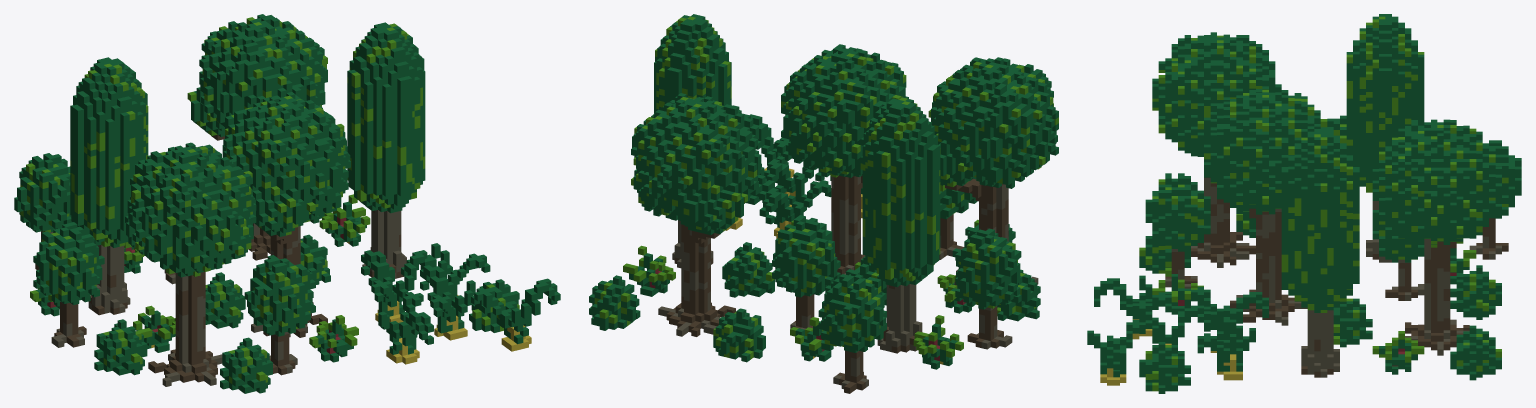
The model's file is trees_10_overtile.obj.
3 views of the same model, side by side, from view 1: azimuth 30°, elevation 25°; view 2: azimuth 150°, elevation 25°; view 3: azimuth 270°, elevation 25° (orthographic). The views are drawn at different scales.
Bounding box in the file's own units: 6.9 × 4 × 6.7.
Materials: 1 (1 with a texture image).
